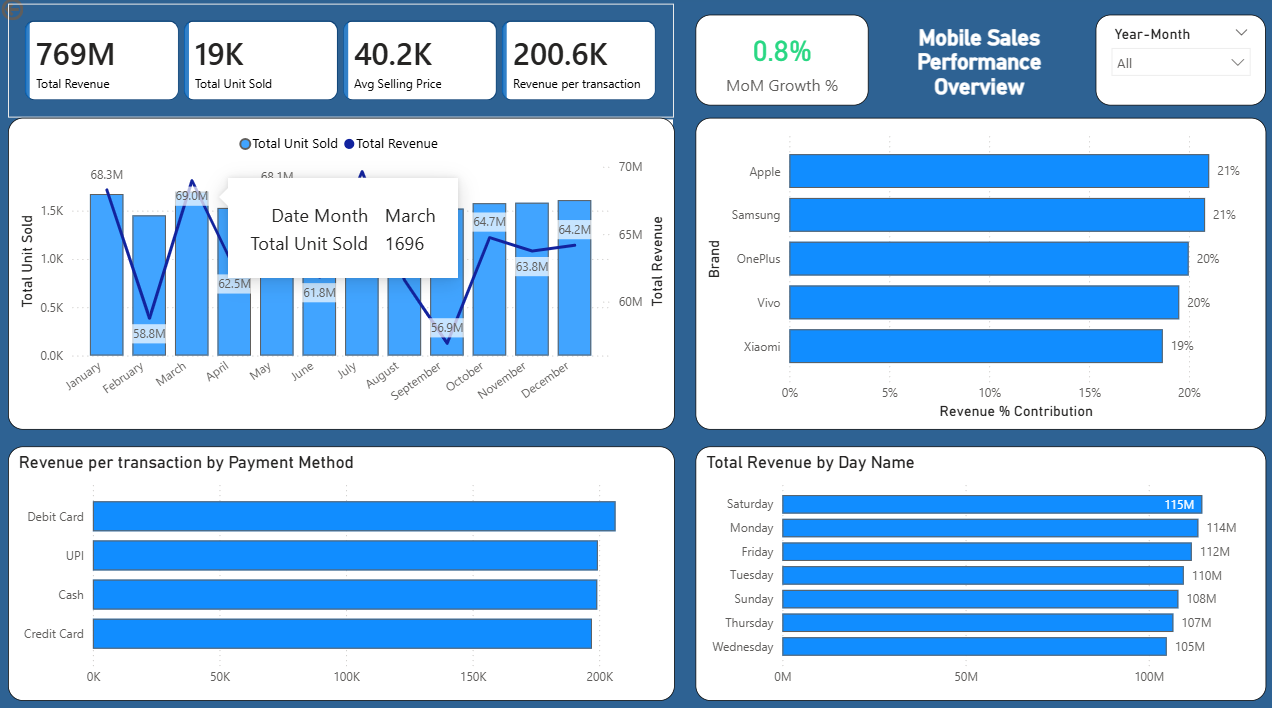

What the dashboard file says about the page in this screenshot:
{"tool":"powerbi","page":{"name":"Mobile Sales Performance Overview ","canvas":[1280,720],"ordinal":0},"visuals":[{"type":"actionButton","box":[0,0,31.6,30.3],"z":0},{"type":"cardVisual","fields":{"Data":["Mobile_Sales_Data.Total Revenue","Mobile_Sales_Data.Total Unit Sold","Mobile_Sales_Data.Avg Selling Price","Mobile_Sales_Data.Revenue per Txn"]},"box":[11,9.6,667,114.1],"z":1000},{"type":"lineClusteredColumnComboChart","fields":{"Y":["Mobile_Sales_Data.Total Unit Sold"],"Y2":["Mobile_Sales_Data.Total Revenue"],"Category":["Date.Date.Variation.Date Hierarchy.Month"]},"box":[11,123.8,667,312.2],"z":2000},{"type":"clusteredBarChart","fields":{"Category":["Mobile_Sales_Data.Brand"],"Y":["Mobile_Sales_Data.Revenue % Contribution"]},"box":[698.6,123.8,570.7,312.2],"z":3000},{"type":"clusteredBarChart","fields":{"Y":["Mobile_Sales_Data.Revenue Txn"],"Category":["Mobile_Sales_Data.Payment Method"]},"box":[11,452.5,667,254.4],"z":4000},{"type":"clusteredBarChart","fields":{"Category":["Mobile_Sales_Data.Day Name"],"Y":["Mobile_Sales_Data.Total Revenue"]},"box":[698.6,452.5,570.7,254.4],"z":5000},{"type":"card","fields":{"Values":["Date.MoM Growth %"]},"box":[698.6,20.6,173.3,90.8],"z":6000},{"type":"slicer","fields":{"Values":["Date.Year-Month"]},"box":[1098.8,20.6,170.5,90.8],"z":7000},{"type":"textbox","box":[882.9,30.3,199.4,81.1],"z":8000}]}

Visuals, with their boxes in screenshot pixels (x1, y1, x2, y2), scaled from the page's 1280x720 canvas onto the 1272x708 screenshot:
actionButton: Rect(0, 0, 31, 30)
cardVisual - Mobile_Sales_Data.Total Revenue x Mobile_Sales_Data.Total Unit Sold: Rect(11, 9, 674, 122)
lineClusteredColumnComboChart - Mobile_Sales_Data.Total Unit Sold x Mobile_Sales_Data.Total Revenue: Rect(11, 122, 674, 429)
clusteredBarChart - Mobile_Sales_Data.Brand x Mobile_Sales_Data.Revenue % Contribution: Rect(694, 122, 1261, 429)
clusteredBarChart - Mobile_Sales_Data.Revenue Txn x Mobile_Sales_Data.Payment Method: Rect(11, 445, 674, 695)
clusteredBarChart - Mobile_Sales_Data.Day Name x Mobile_Sales_Data.Total Revenue: Rect(694, 445, 1261, 695)
card - Date.MoM Growth %: Rect(694, 20, 866, 110)
slicer - Date.Year-Month: Rect(1092, 20, 1261, 110)
textbox: Rect(877, 30, 1076, 110)
